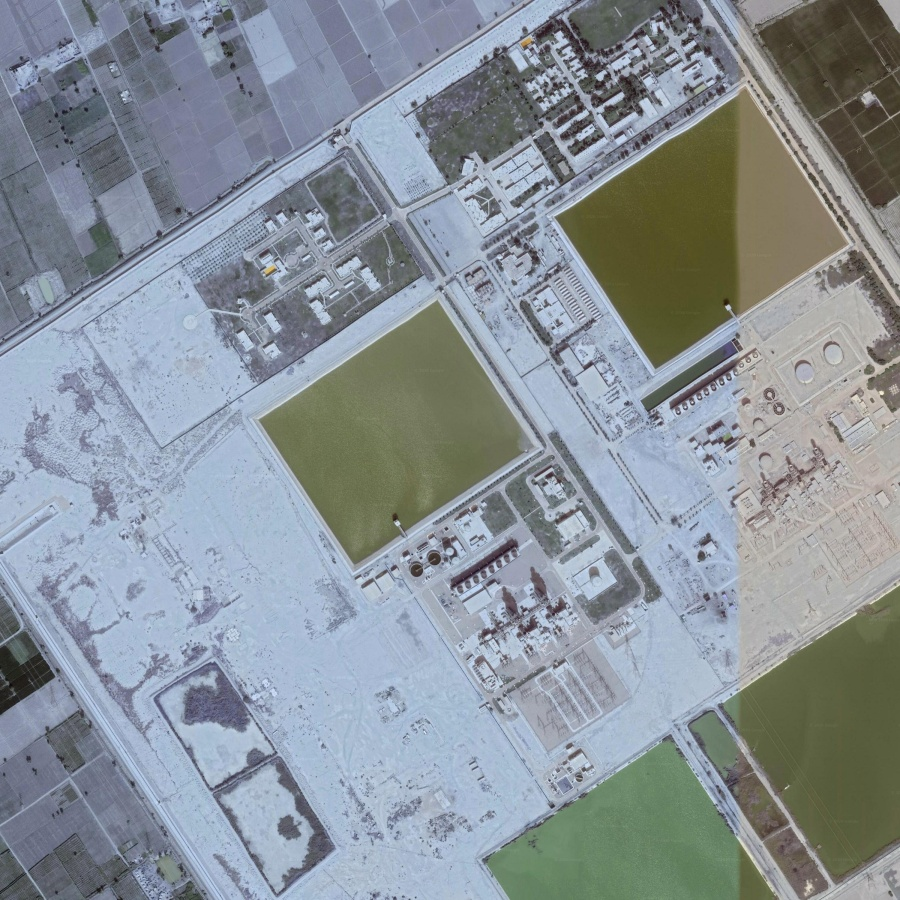PowerPlant: (406, 463, 648, 784), (688, 342, 883, 536)
